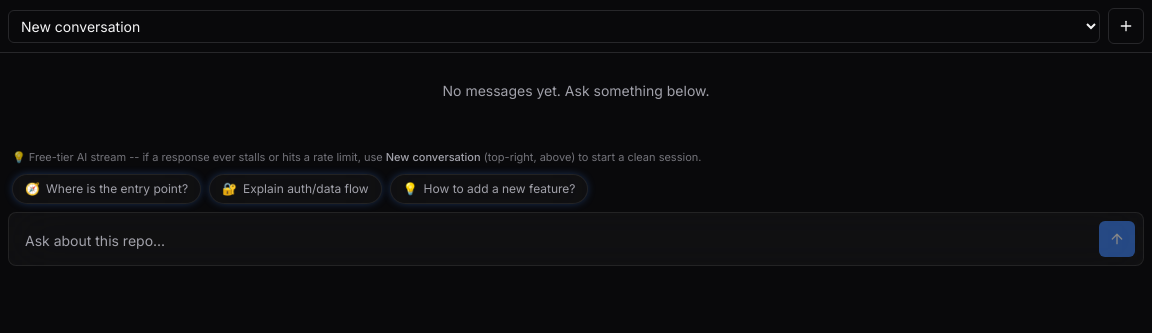
ChatPanel streaming › refetches messages instead of rendering a blank bubble when 'done' arrives with no token events
The image size is (1152, 333).
In the text box with placeholder "Ask about this repo...": (554, 240) [17,224,1091,256], type "Find the answer"
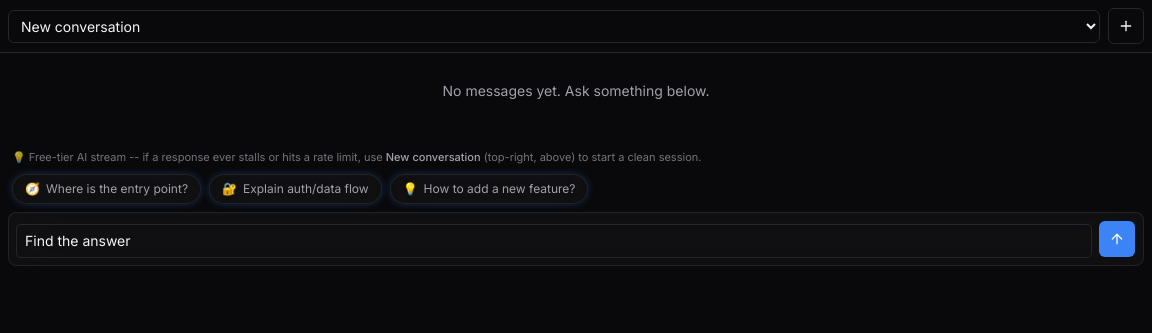
Click the button named "Send message": (1117, 238) [1099,220,1135,256]
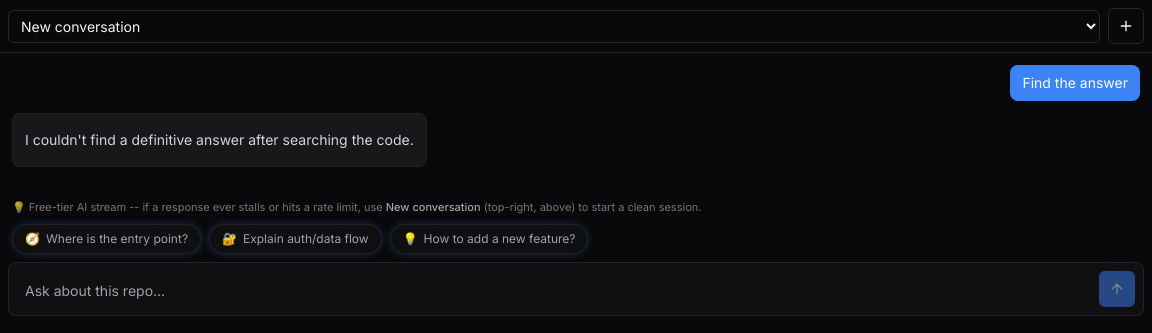
Check: the text "I couldn't find a definitive answer after searching the code." is shown, box [25,128,414,152]
